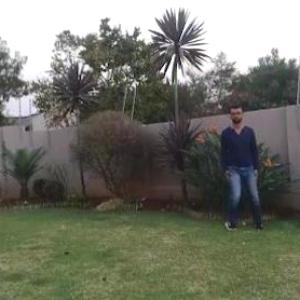follow: (220, 102, 258, 231)
